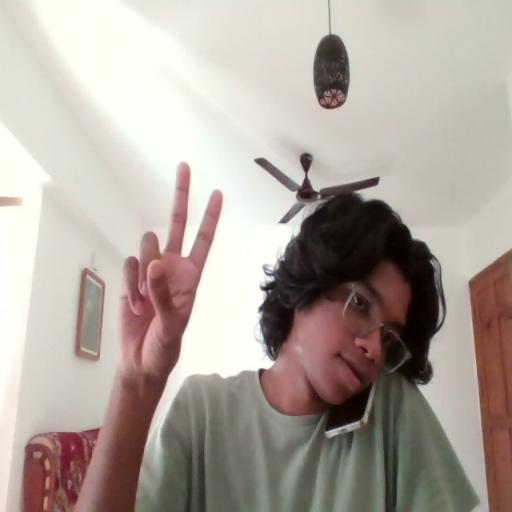scissor: (114, 155, 224, 378)
